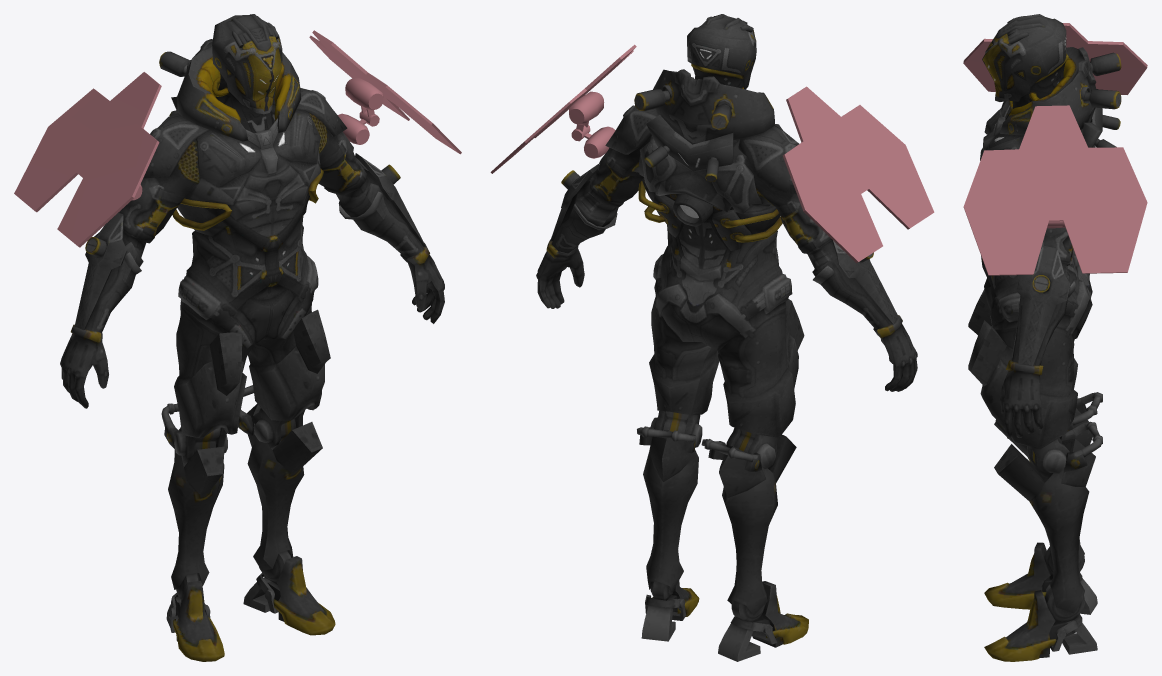
3 views of the same model, side by side, from view 1: azimuth 30°, elevation 25°; view 2: azimuth 150°, elevation 25°; view 3: azimuth 270°, elevation 25° (orthographic).
Parts seen in each view (by area): view 1: 25_body_0.3_0_0, 25_shoulder_0.3_0_0, 25_face_0.3_0_0; view 2: 25_body_0.3_0_0, 25_shoulder_0.3_0_0, 25_face_0.3_0_0; view 3: 25_body_0.3_0_0, 25_shoulder_0.3_0_0, 25_face_0.3_0_0.
Boxes of the visible parts, x1,y1,x2,y2 form: 25_body_0.3_0_0: (60, 39, 444, 661); 25_shoulder_0.3_0_0: (14, 30, 461, 247); 25_face_0.3_0_0: (212, 14, 282, 132); 25_body_0.3_0_0: (536, 69, 917, 661); 25_shoulder_0.3_0_0: (490, 44, 934, 262); 25_face_0.3_0_0: (687, 14, 756, 147); 25_body_0.3_0_0: (968, 47, 1121, 661); 25_shoulder_0.3_0_0: (963, 23, 1147, 275); 25_face_0.3_0_0: (982, 14, 1068, 119).
Bounding box in the file's own units: 1.26 × 1.92 × 0.5256.
